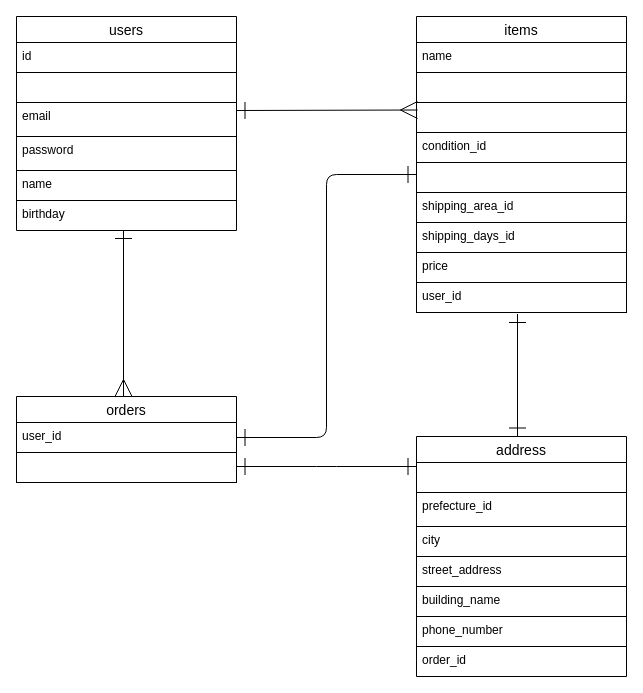
The diagram is 643 pixels wide and 693 high, and some of its shapes have lost their labels. The centre of each missing label's shape, as x and y in pixels:
category_id: (521,117)
description: (521,87)
item_id: (126,467)
nickname: (126,87)
postal_code: (521,477)
shipping_charge_id: (521,177)
